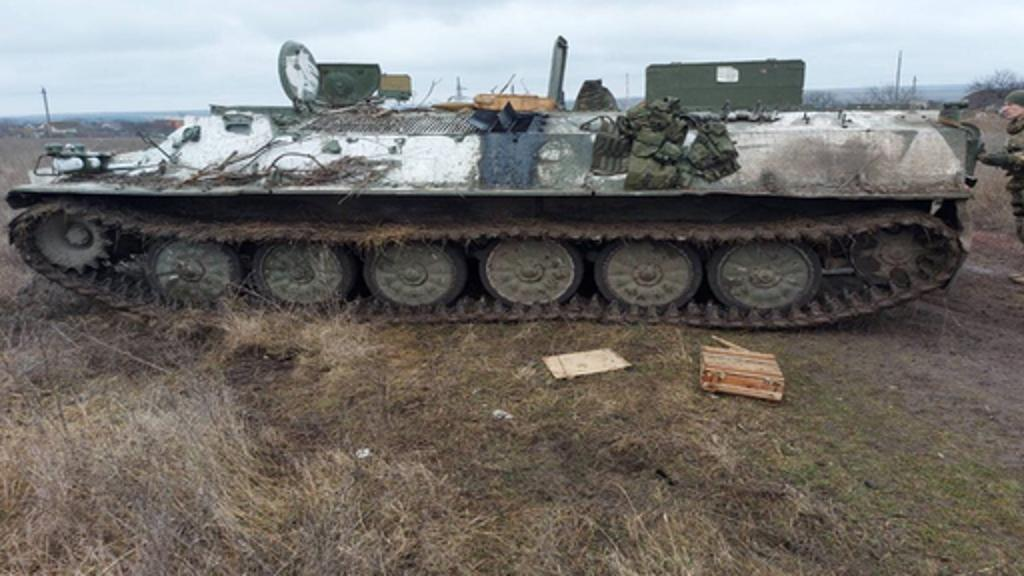APC-IFV: (6, 58, 1000, 376)
